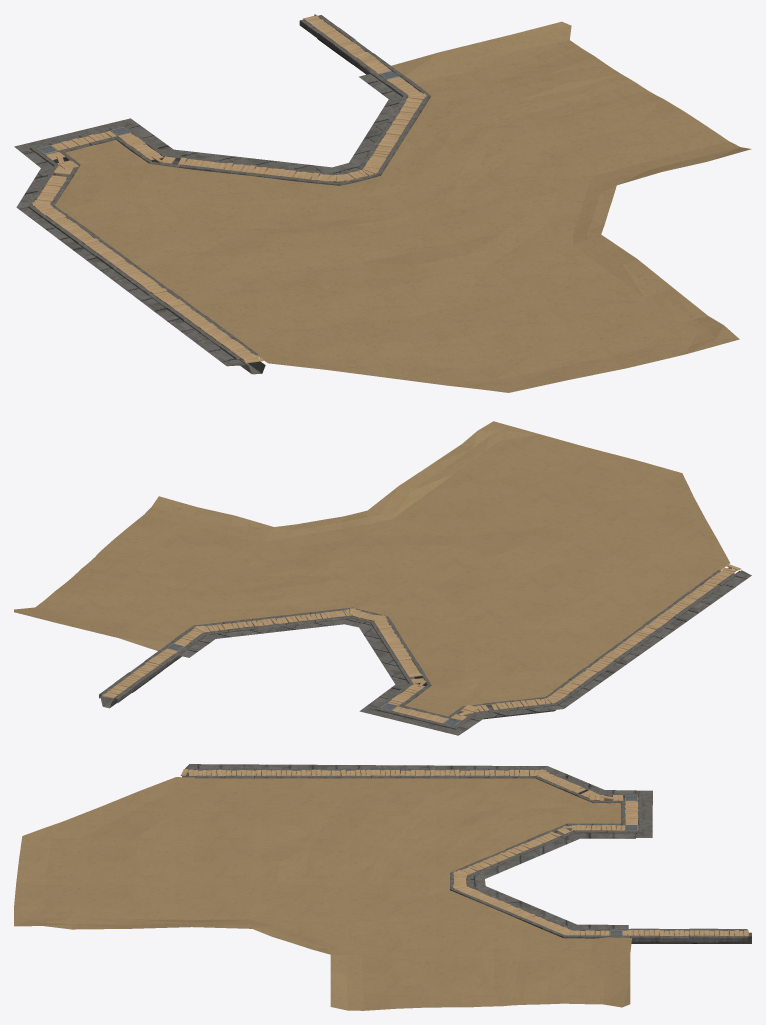
The model's file is SM_ENV_KNVLLG_ground_10.fbx.
The picture shows the model from 3 angles, top to bottom: view 1: azimuth 30°, elevation 25°; view 2: azimuth 150°, elevation 25°; view 3: azimuth 270°, elevation 25°; orthographic projection. The views are drawn at different scales.
Parts seen in each view (by area): view 1: SM_ENV_KNVLLG_ground_10.mo; view 2: SM_ENV_KNVLLG_ground_10.mo; view 3: SM_ENV_KNVLLG_ground_10.mo.
Part boxes in pixels (x1,y1,x2,y2): SM_ENV_KNVLLG_ground_10.mo: (14, 14, 751, 392); SM_ENV_KNVLLG_ground_10.mo: (14, 421, 751, 735); SM_ENV_KNVLLG_ground_10.mo: (14, 764, 751, 1010).
Bounding box in the file's own units: 9176 × 229 × 11538.
